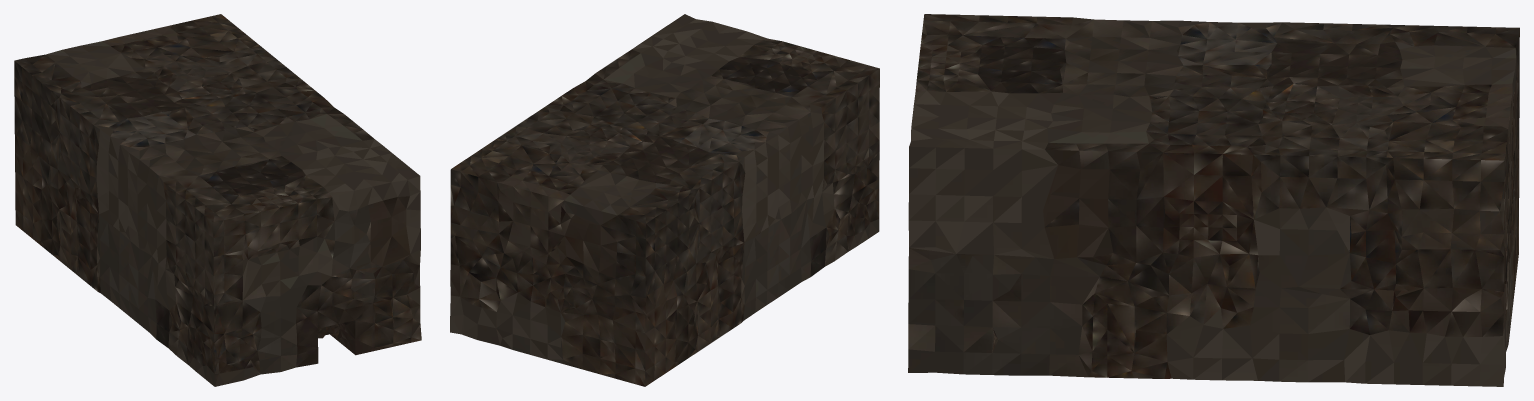
Rendered from Church_Interior_Scan.glb.
3 renders of one model, left to right at view 1: azimuth 30°, elevation 25°; view 2: azimuth 150°, elevation 25°; view 3: azimuth 270°, elevation 25°, orthographic. The views are drawn at different scales.
Visible parts, largest first — view 1: Object_8, Object_7, Object_5, Object_6, Object_4; view 2: Object_8, Object_7, Object_5, Object_6, Object_4; view 3: Object_8, Object_7, Object_5, Object_4, Object_6.
Part boxes in pixels (x1,y1,x2,y2): Object_8: [46, 41, 420, 386]; Object_7: [14, 14, 420, 355]; Object_5: [56, 25, 326, 342]; Object_6: [40, 35, 421, 373]; Object_4: [58, 45, 334, 259]; Object_8: [450, 14, 879, 363]; Object_7: [450, 60, 879, 386]; Object_5: [459, 80, 879, 336]; Object_6: [498, 103, 879, 377]; Object_4: [479, 38, 850, 311]; Object_8: [908, 17, 1516, 386]; Object_7: [922, 14, 1519, 337]; Object_5: [1131, 22, 1513, 378]; Object_4: [915, 33, 1507, 352]; Object_6: [1082, 65, 1516, 378].
Size of the model in its own units: 9.88 by 7.17 by 17.31.
5 materials, 5 textured.
